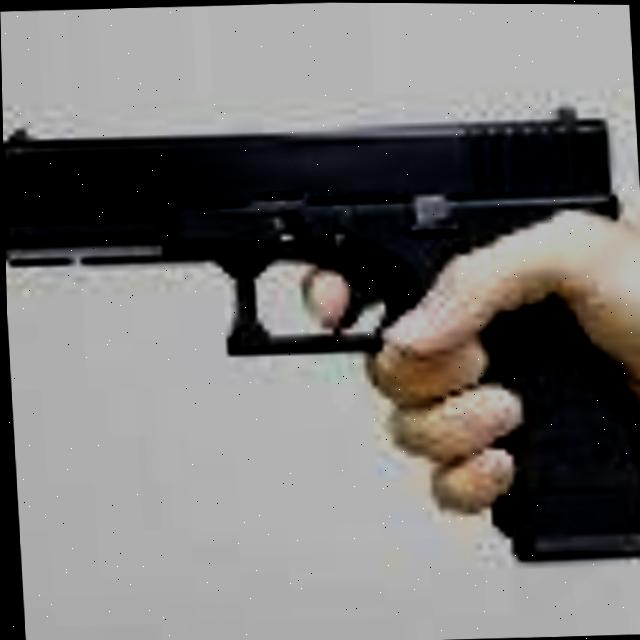pistol: (2, 96, 640, 596)
